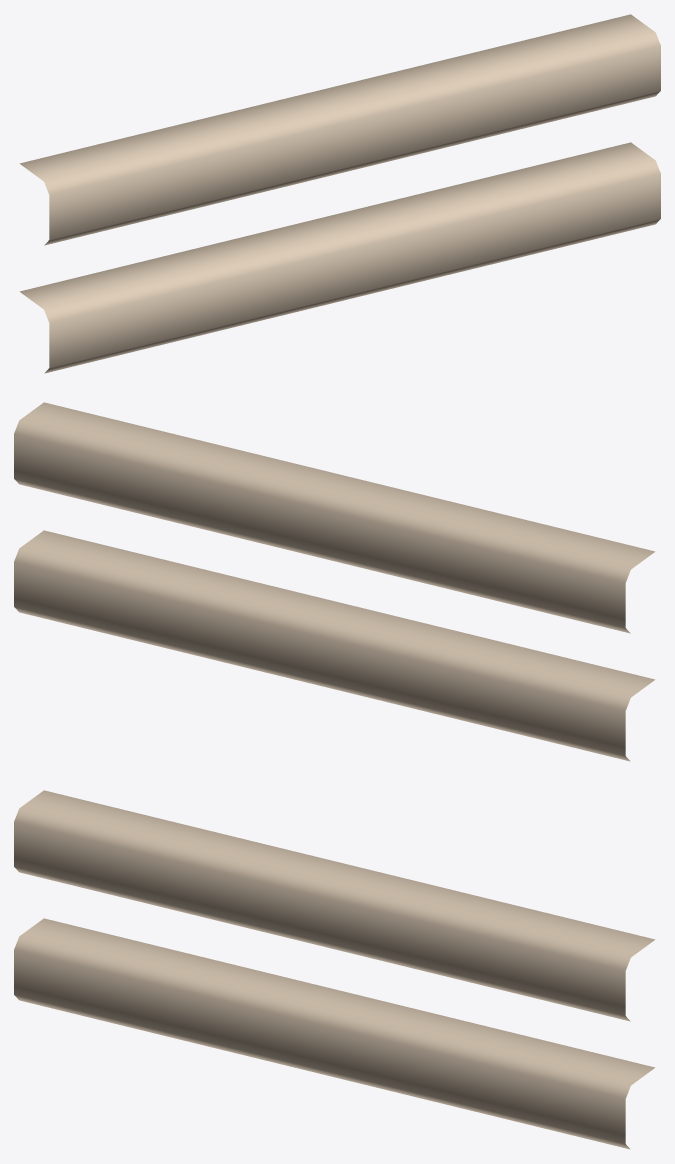
File: fence_rails_long.glb
3 renders of one model, top to bottom at view 1: azimuth 30°, elevation 25°; view 2: azimuth 150°, elevation 25°; view 3: azimuth 330°, elevation 25°, orthographic.
Parts seen in each view (by area): view 1: fence_rails_long; view 2: fence_rails_long; view 3: fence_rails_long.
Boxes of the visible parts, box(x1,y1,x2,y2) form: fence_rails_long: box(19, 14, 660, 373); fence_rails_long: box(14, 402, 655, 761); fence_rails_long: box(14, 790, 655, 1149).
Size of the model in its own units: 2 by 0.6 by 0.2.
